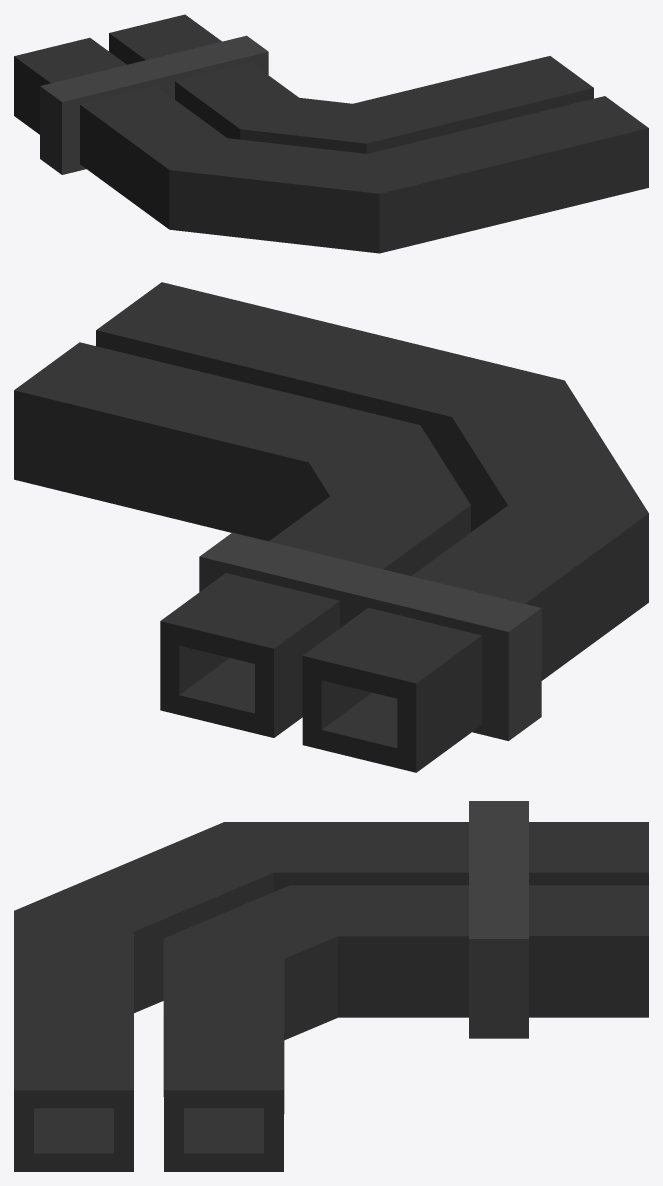
Rendered from HJD_SFB_Cable_Corner_02.fbx.
3 views of the same model, one above another, from view 1: azimuth 30°, elevation 25°; view 2: azimuth 150°, elevation 25°; view 3: azimuth 270°, elevation 25° (orthographic). The views are drawn at different scales.
Parts seen in each view (by area): view 1: HJD_SFB_Asset; view 2: HJD_SFB_Asset; view 3: HJD_SFB_Asset.
Boxes of the visible parts, x1,y1,x2,y2 form: HJD_SFB_Asset: (14, 14, 648, 253); HJD_SFB_Asset: (14, 282, 648, 772); HJD_SFB_Asset: (14, 801, 648, 1171).
Bounding box in the file's own units: 66.31 × 11 × 63.51.
